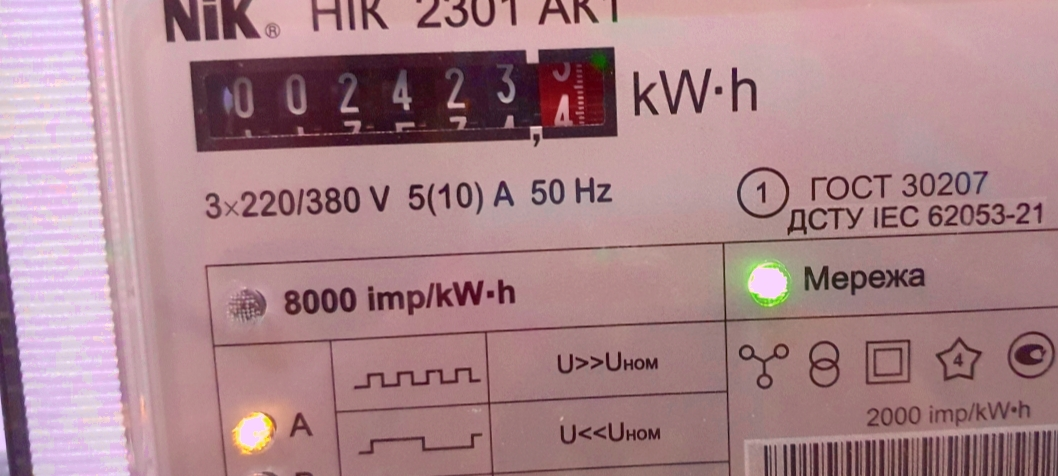0: (231, 72, 258, 120), (284, 71, 310, 116)
2: (336, 68, 363, 115), (443, 64, 468, 110)
3: (494, 60, 519, 105), (552, 58, 574, 82)
4: (390, 66, 414, 112), (551, 89, 577, 127)
screen: (179, 34, 632, 164)
